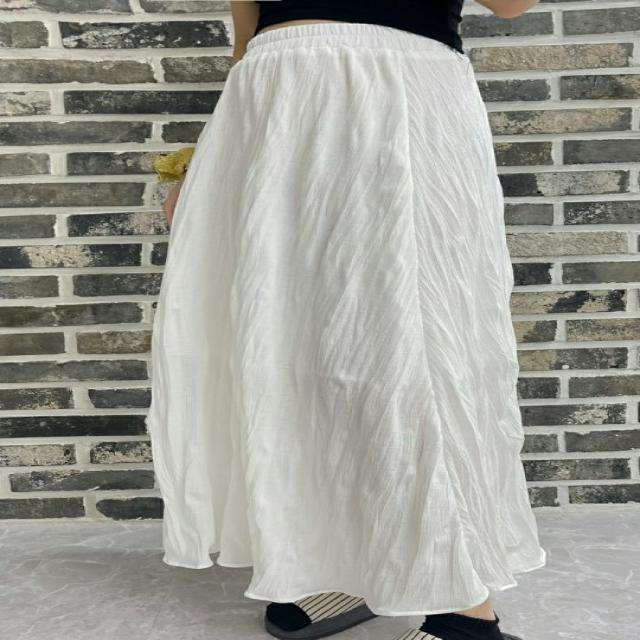shirt: (144, 10, 546, 617)
